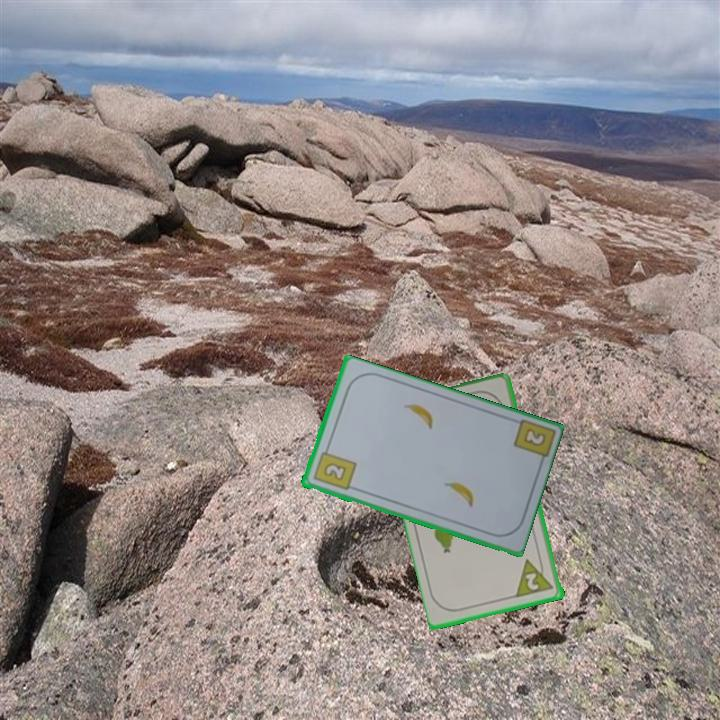2b: (309, 443, 358, 493), (519, 425, 546, 448)
2p: (513, 553, 557, 600)
